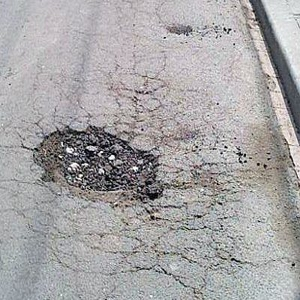pothole: (33, 124, 168, 214)
